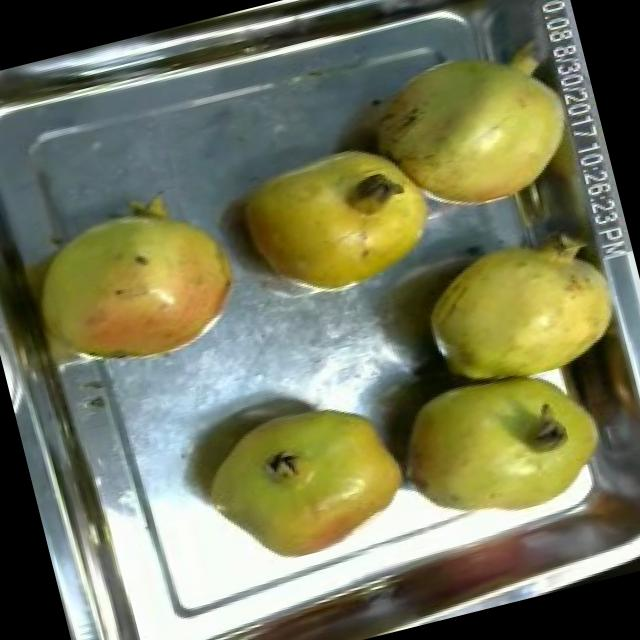fruit: (10, 164, 262, 394), (177, 379, 427, 587), (351, 27, 596, 238), (378, 346, 628, 550), (214, 121, 454, 323), (398, 215, 636, 411)
